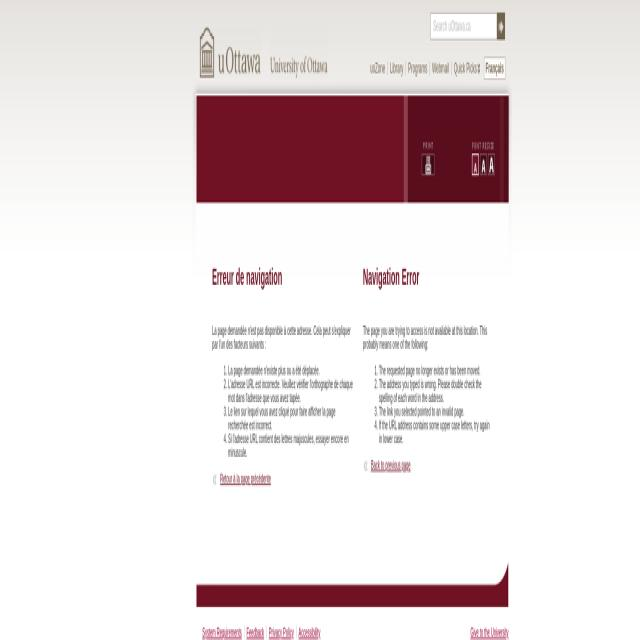button: (196, 15, 263, 86), (484, 55, 504, 77), (422, 153, 434, 174), (496, 12, 504, 40), (488, 153, 495, 174), (472, 154, 479, 175), (480, 154, 487, 175)
field: (430, 12, 496, 40)
